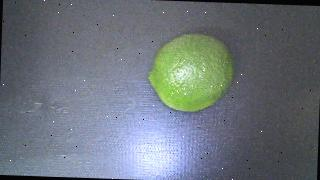EXPORTACION: (147, 32, 235, 113)
